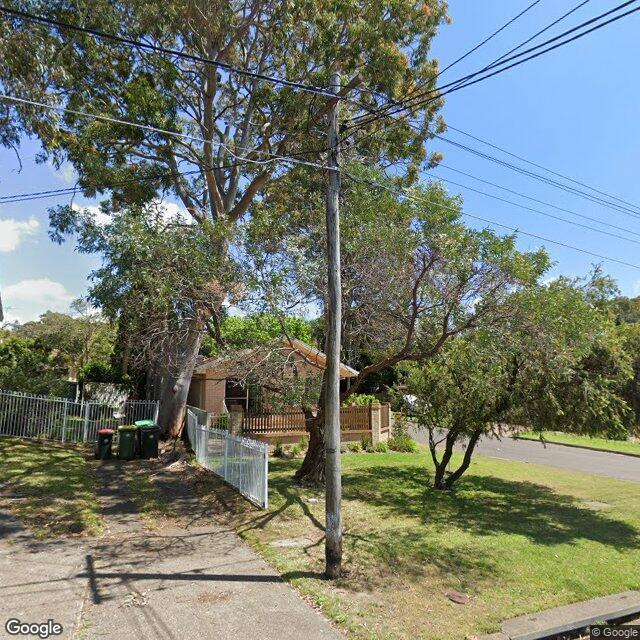crossarm: (304, 72, 364, 132)
timber-pole: (324, 71, 342, 579)
